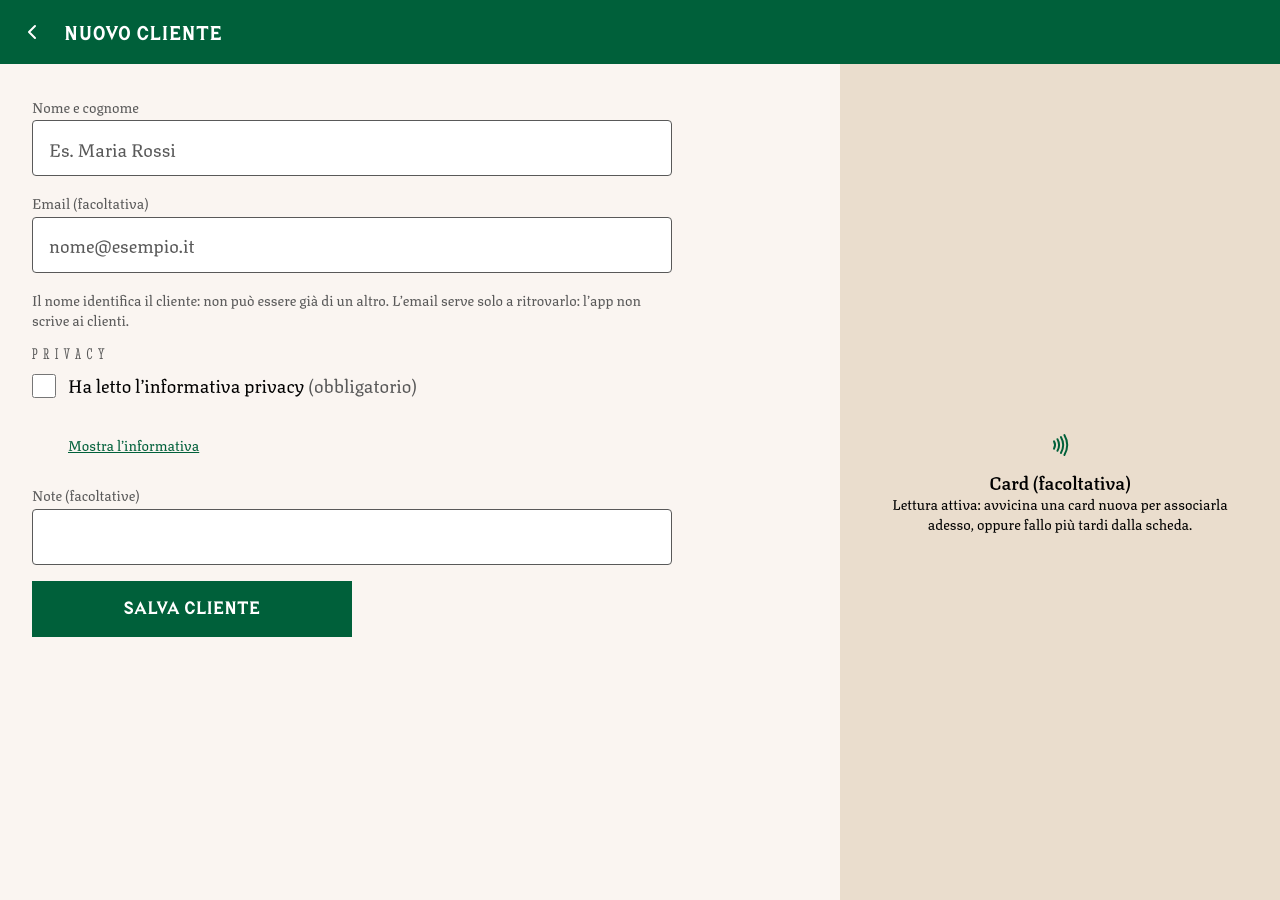
Scenario: Nuovo cliente senza card: the section "Card (facoltativa)" › a card already known (criterion 5) › an active card: "Card già associata" with the owner, the data intact, saved without a card
The image size is (1280, 900).
Later steps or results of the test are not shown.
Expected: the text "Lettura attiva: avvicina una card nuova per associarla adesso, oppure fallo più tardi dalla scheda." is shown, [892,492,1228,534]
Type "Giulia Bianchi" into the field labelled "Nome e cognome".
click(352, 148); type("Giulia Bianchi")  # box [32,120,672,176]
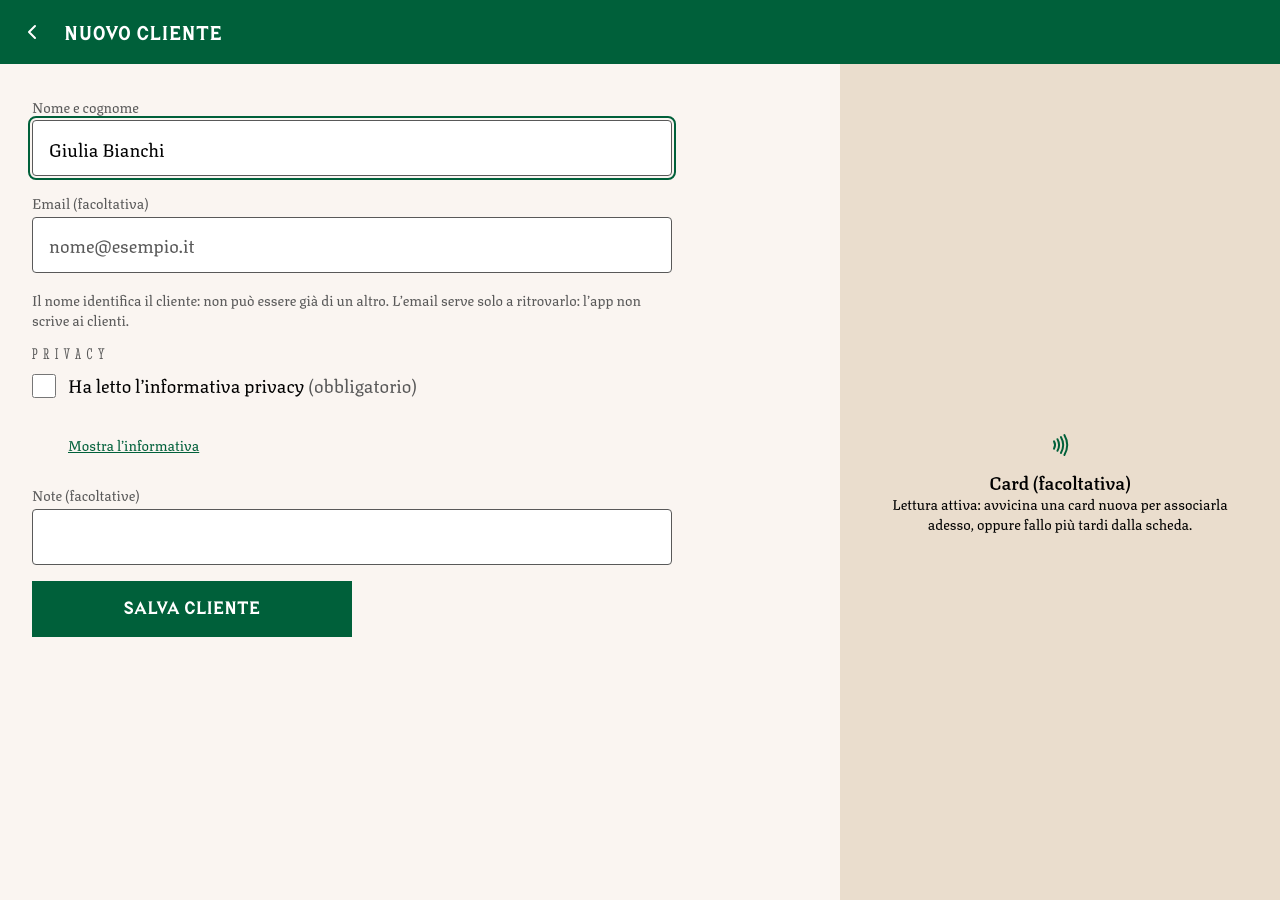
Type "giulia@example.com" into the field labelled "Email (facoltativa)".
click(352, 245); type("giulia@example.com")  # box [32,217,672,273]
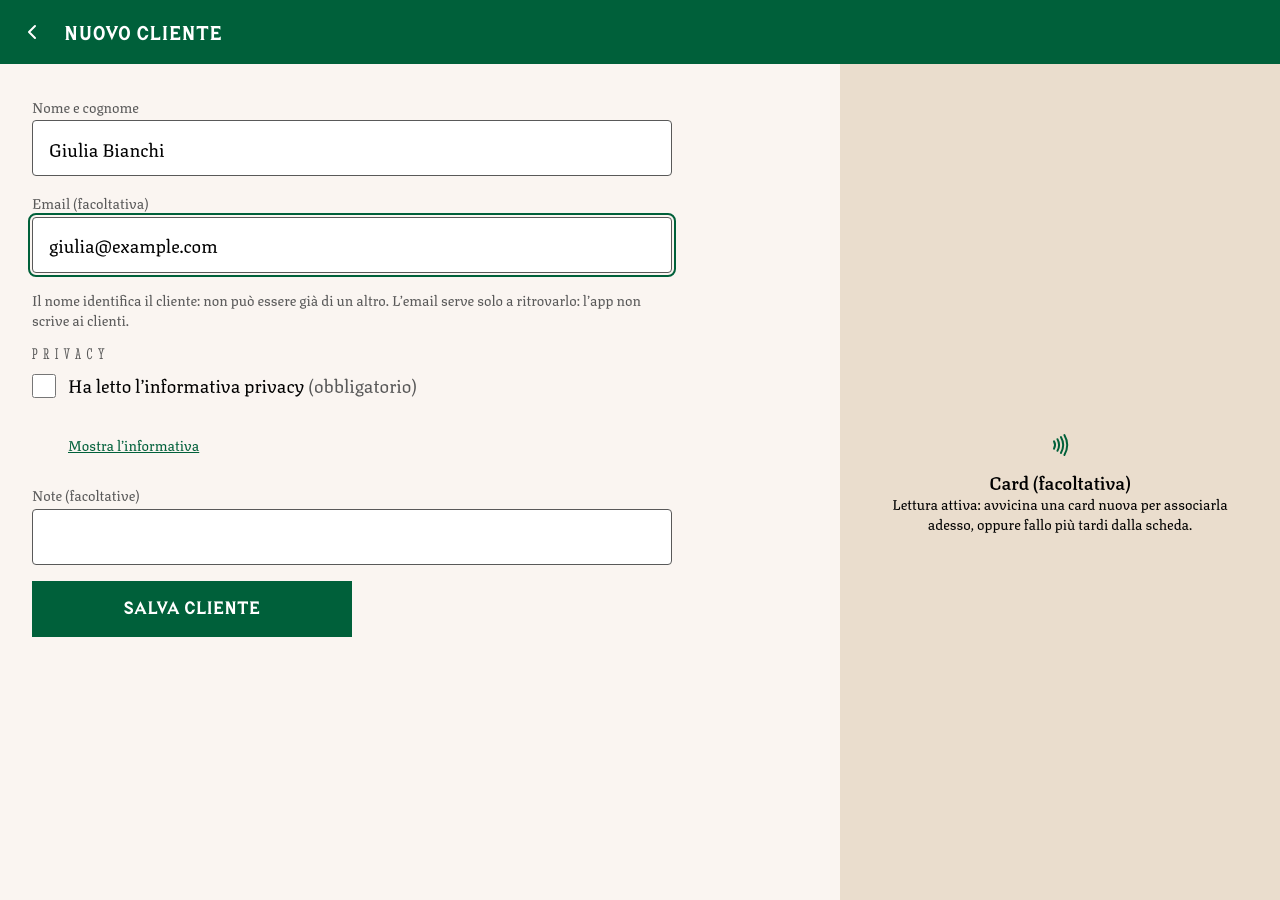
Click the checkbox labelled "Ha letto l’informativa privacy (obbligatorio)".
click(44, 386)  # box [32,374,56,398]
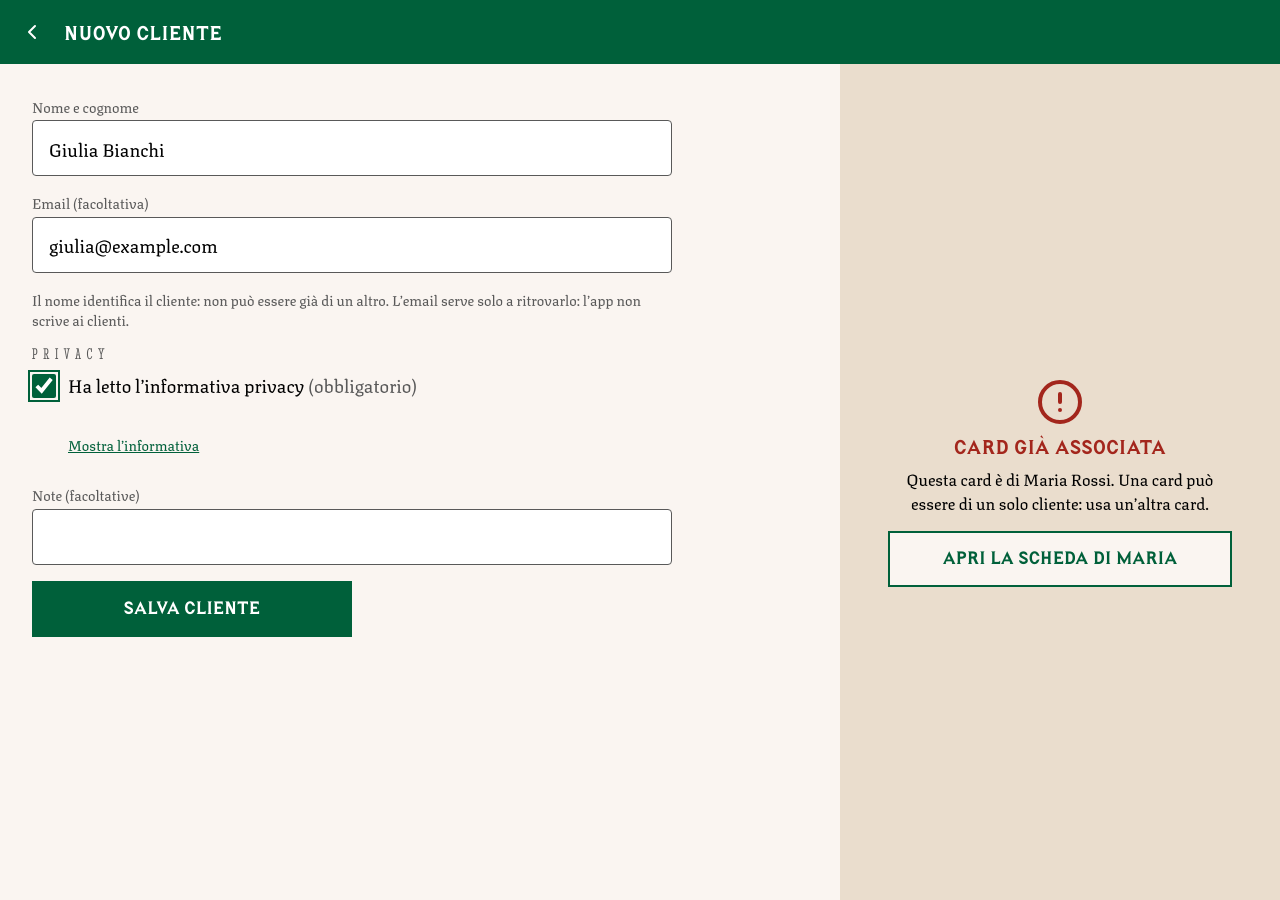
Result: the checkbox labelled "Ha letto l’informativa privacy (obbligatorio)" is checked at [32,374,56,398]
Result: the heading "Card già associata" is shown at [954,434,1166,458]
